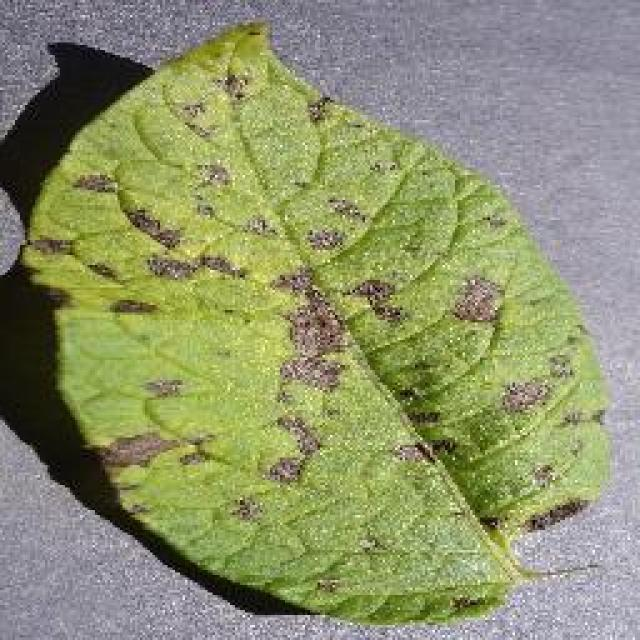Potato: (15, 17, 613, 625)
